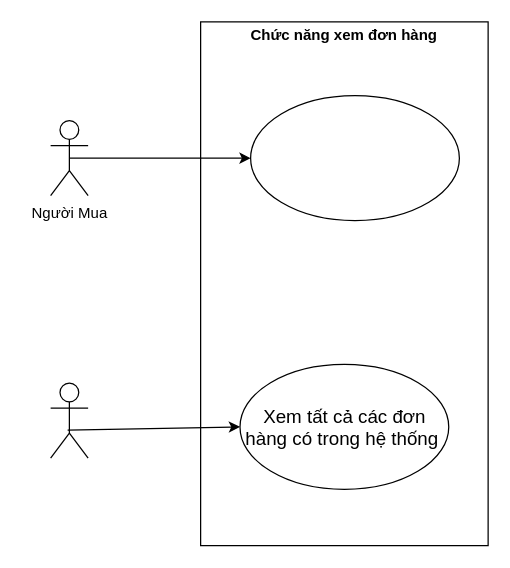
The diagram is 510 pixels wide and 568 high, and some of its shapes have lost their labels. The shapes that lost their labels are listed below. From the top down, each one's box as (x1, y1, x2, y2) in pixels, then its label:
(249, 94, 459, 221): Xem lại các đơn hàng đã mua
(49, 382, 88, 458): Người quản trị
